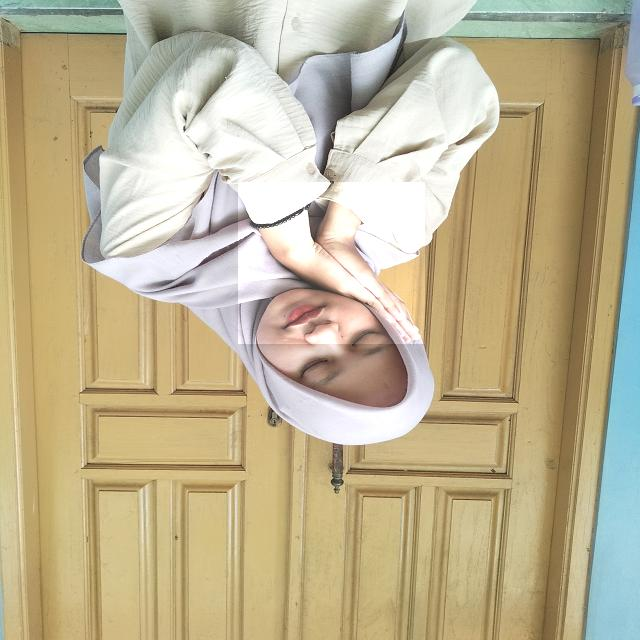tidur: (238, 182, 425, 344)
